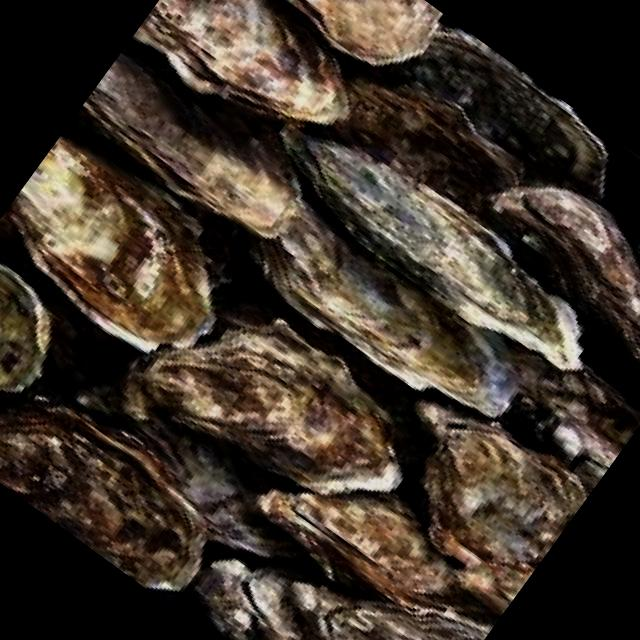Oyster-Closed: (281, 125, 581, 370), (259, 200, 519, 417), (6, 137, 217, 356), (141, 319, 402, 494), (115, 358, 308, 582), (78, 48, 300, 238), (0, 401, 206, 591), (415, 399, 585, 614), (405, 25, 608, 198), (336, 70, 525, 214), (135, 0, 349, 124), (490, 186, 639, 359), (259, 489, 456, 608), (501, 344, 639, 491), (278, 571, 490, 639), (193, 554, 327, 640), (0, 264, 51, 392)
